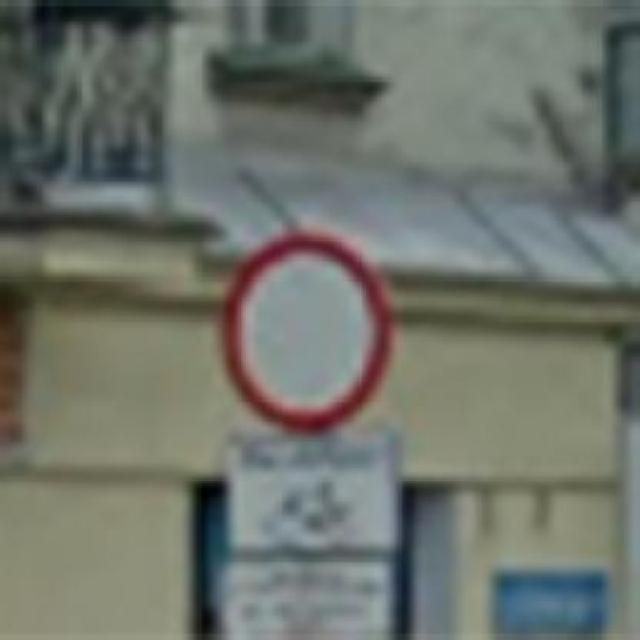Zakaz ruchu w obu kierunkach: (218, 230, 396, 435)
